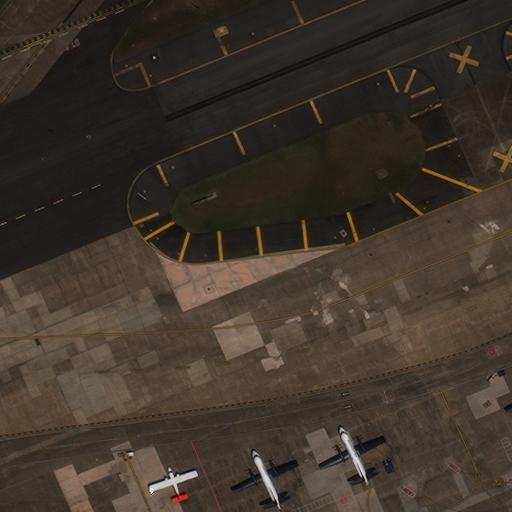Medium Civil Transport: (319, 426, 383, 487), (231, 449, 295, 508)
Small Civil Transport: (149, 467, 195, 502)
